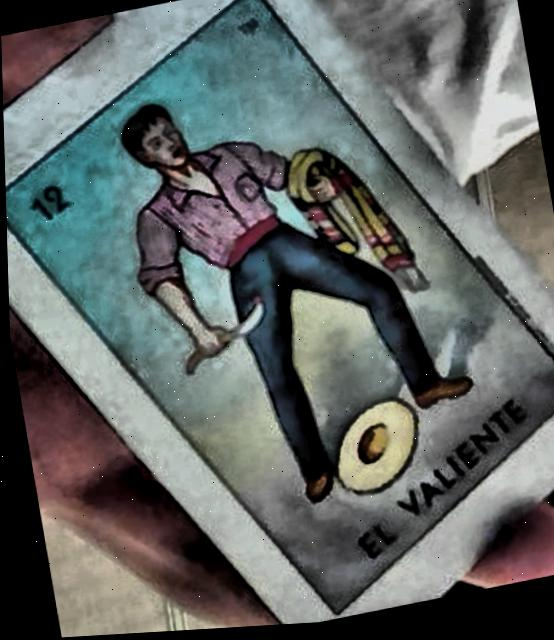El Valiente: (4, 0, 554, 619)
